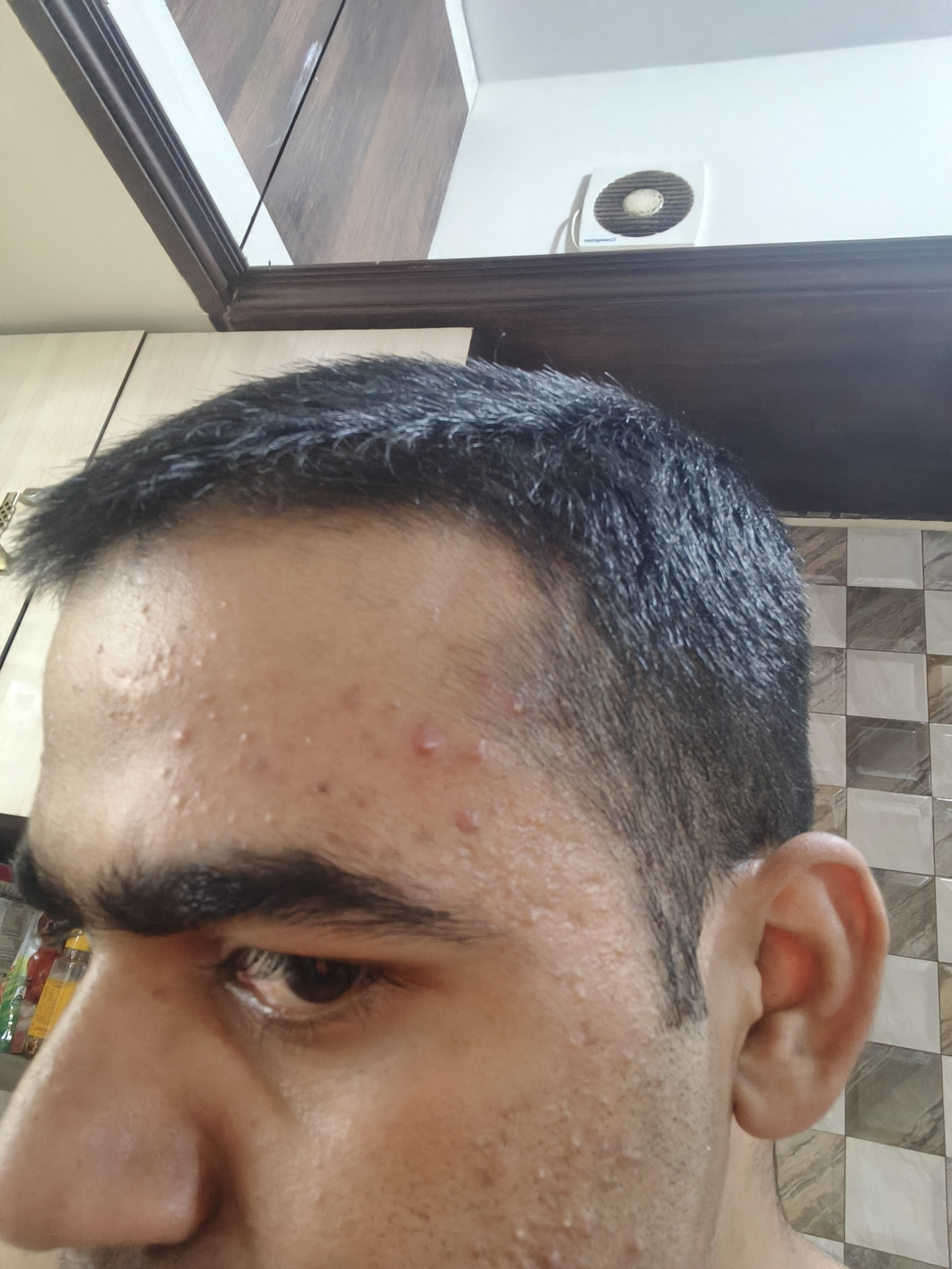closed_comedone: (536, 1168, 546, 1184), (516, 1228, 526, 1243), (240, 704, 251, 714), (562, 1219, 573, 1229), (265, 814, 275, 825), (219, 600, 228, 611), (210, 631, 219, 642), (304, 736, 311, 744)
macrocomedone: (240, 729, 251, 745)
nodule: (538, 1249, 563, 1269), (579, 1212, 596, 1237), (625, 1235, 646, 1253)
papule: (412, 734, 444, 757), (454, 810, 483, 832), (468, 739, 492, 764), (509, 698, 526, 716), (171, 728, 188, 743)
